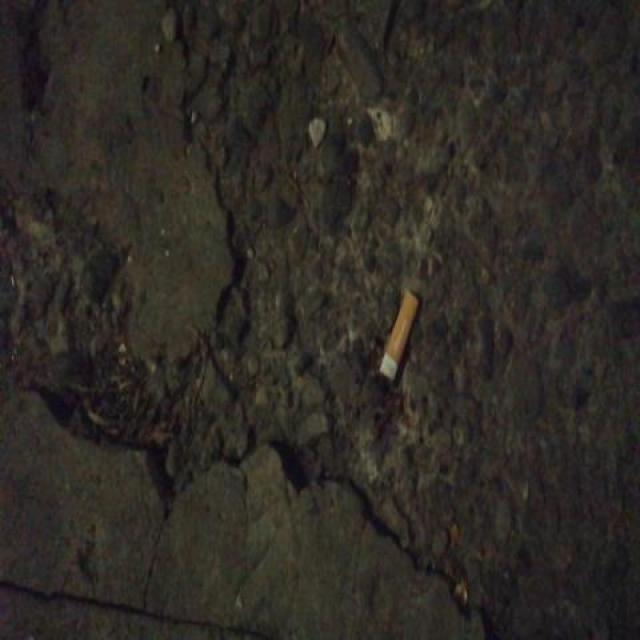non-organic waste: (374, 285, 422, 388)
